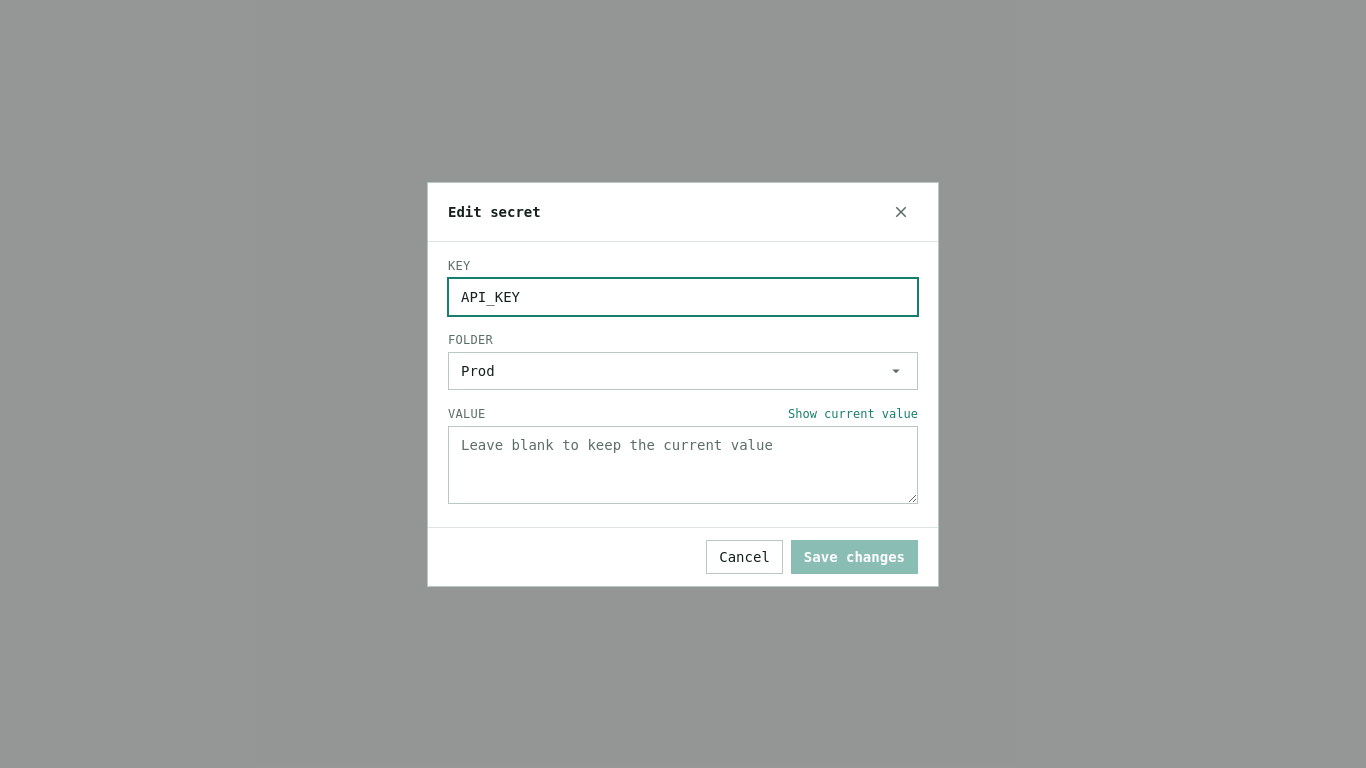
Test: EditSecretDialog › warns that renaming or moving breaks consumers
In the field labelled "Key": (683, 296) [448,278,918,316], type "X"
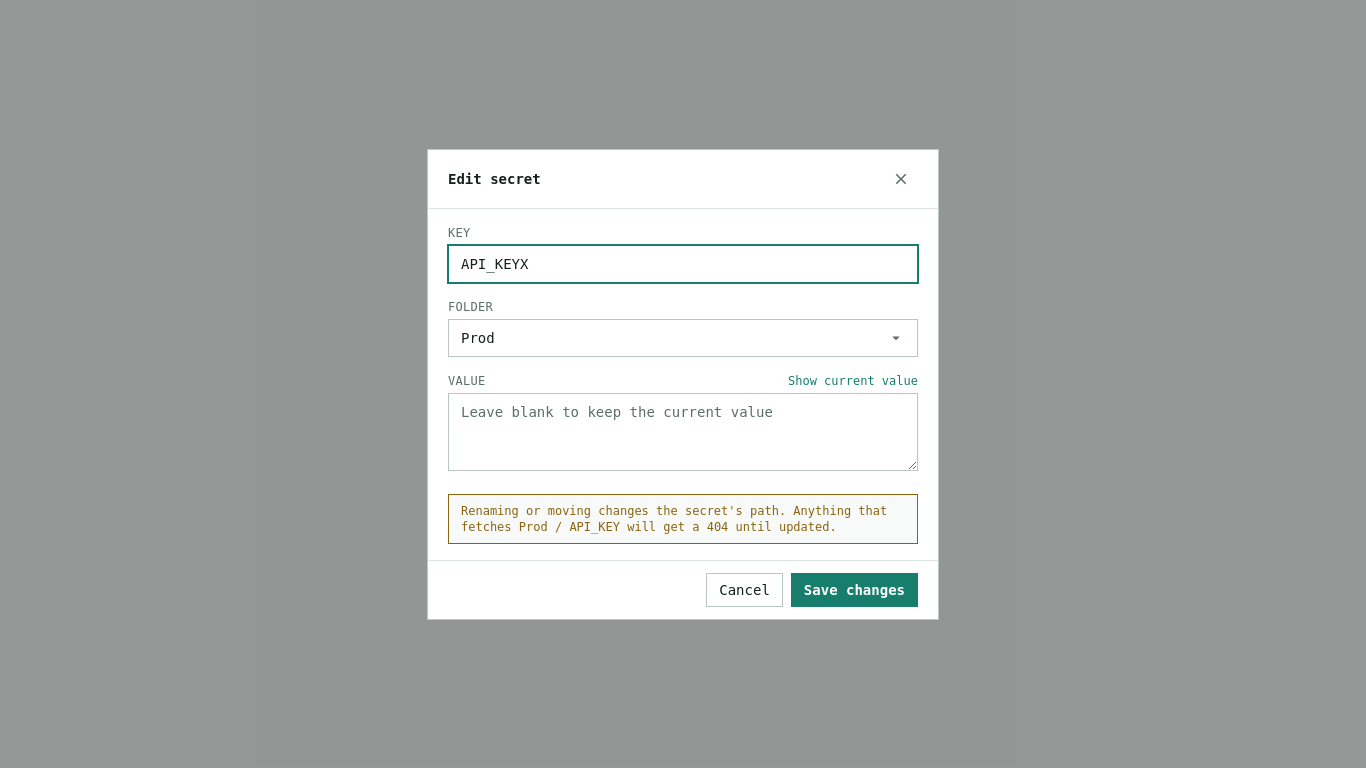
Result: the text "will get a 404" is shown at [620,520,837,534]
